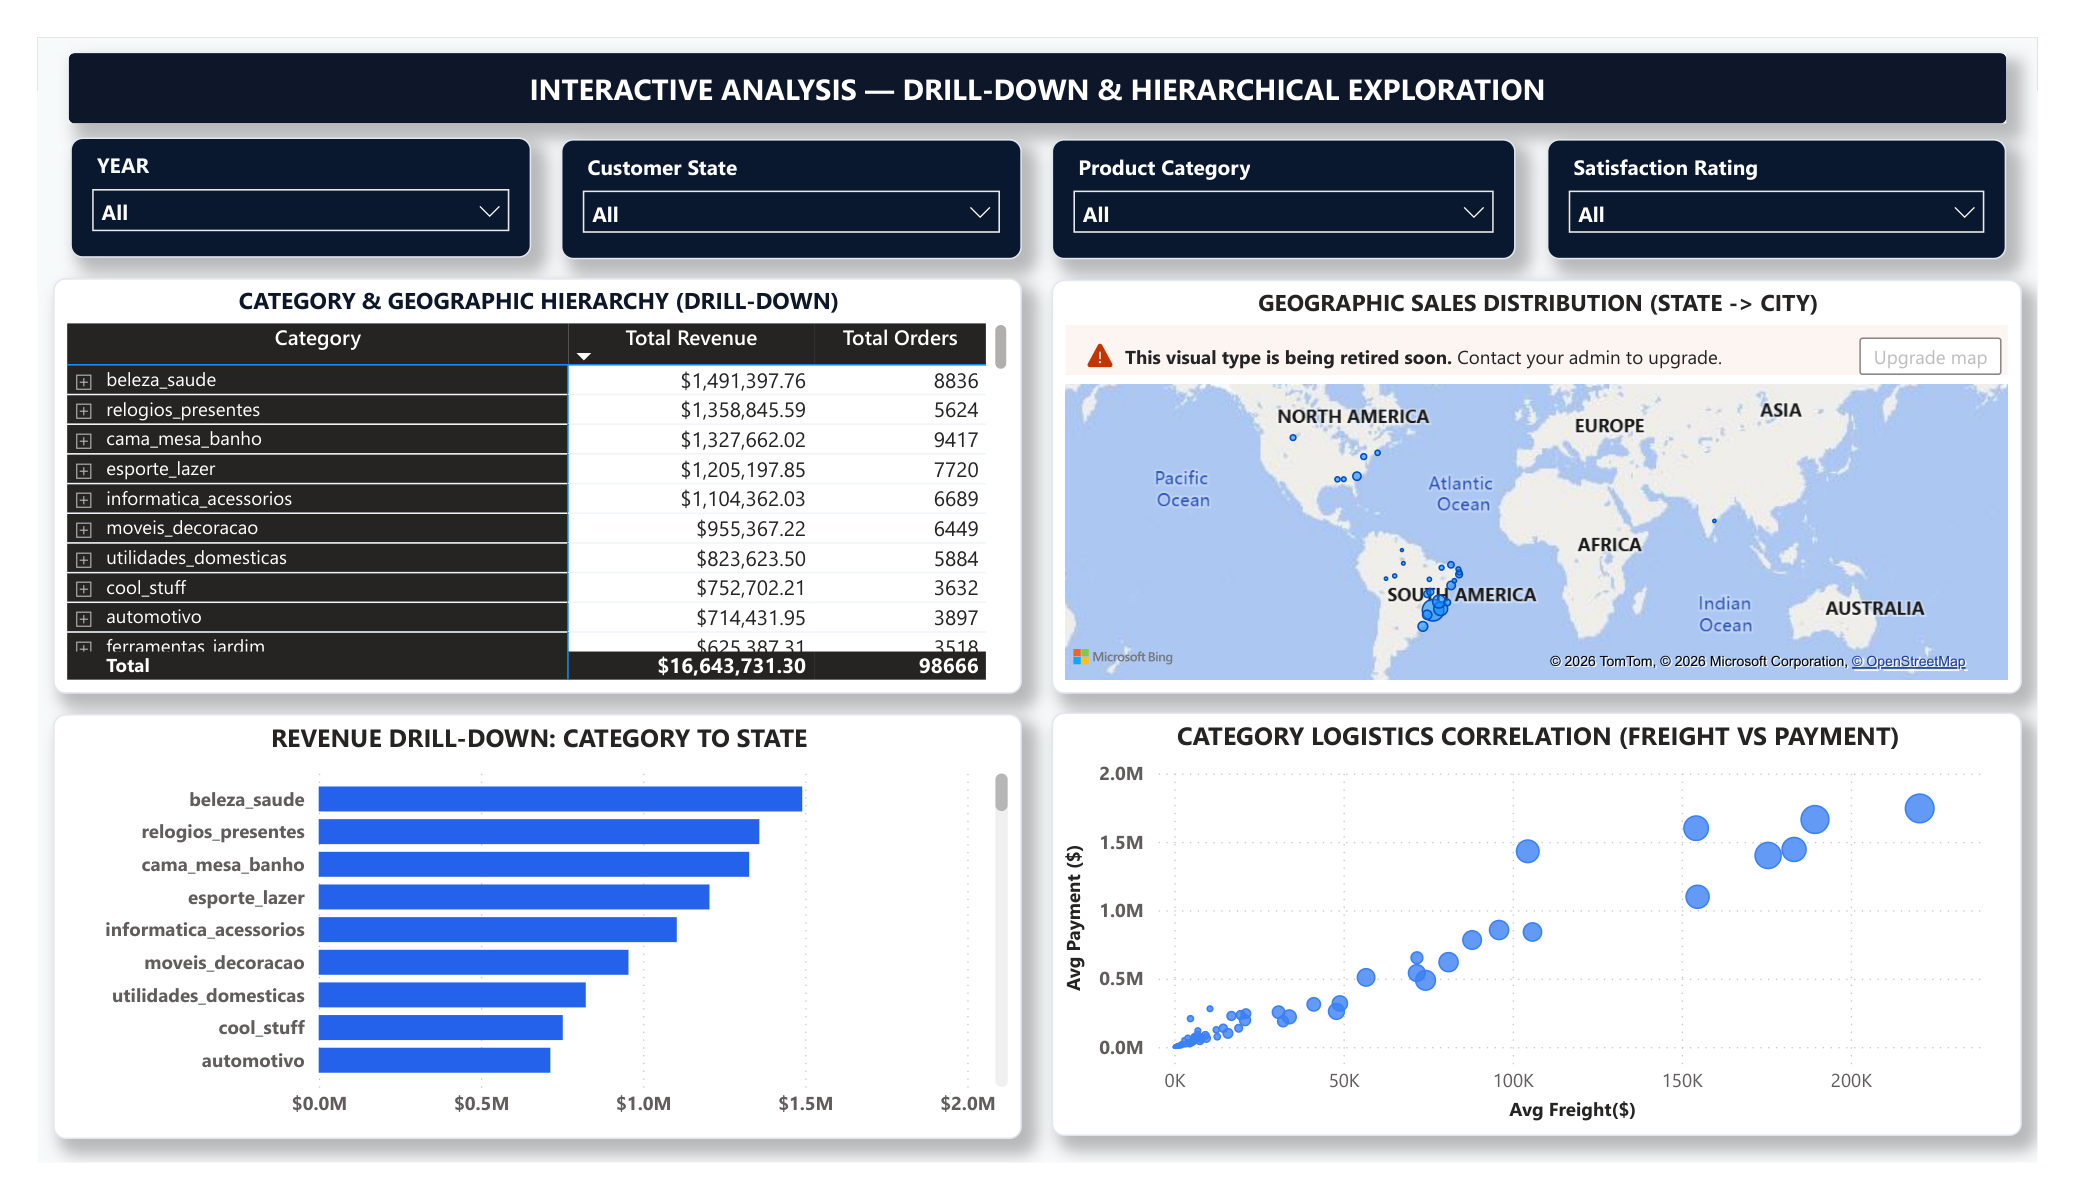

Layout of this report page (visuals, bound fields, positions):
{"tool":"powerbi","page":{"name":"Interactive Analysis","canvas":[1280,720],"ordinal":2},"visuals":[{"type":"shape","box":[20,10,1240,45],"z":0},{"type":"slicer","fields":{"Values":["dm_sales_performance.year_number"]},"box":[20.5,63.9,295.6,77.2],"z":1000},{"type":"slicer","fields":{"Values":["dm_sales_performance.customer_state"]},"box":[334.6,65.2,294.9,76.6],"z":2000},{"type":"slicer","fields":{"Values":["dm_sales_performance.product_category_name"]},"box":[649.4,65.2,296.3,76.6],"z":3000},{"type":"slicer","fields":{"Values":["dm_customer_insights.satisfaction_category"]},"box":[965.5,65.2,294.9,76.6],"z":4000},{"type":"pivotTable","title":"CATEGORY & GEOGRAPHIC HIERARCHY (DRILL-DOWN)","fields":{"Rows":["dm_sales_performance.product_category_name","dm_sales_performance.customer_state","dm_sales_performance.customer_city"],"Values":["Sum(dm_sales_performance.total_order_value)","Count(dm_sales_performance.order_id)"]},"box":[9.7,154.4,620.1,265.4],"z":5000},{"type":"map","title":"GEOGRAPHIC SALES DISTRIBUTION (STATE -> CITY)","fields":{"Category":["dm_sales_performance.customer_state"],"Size":["Sum(dm_sales_performance.total_order_value)"]},"box":[649.4,154.5,621,265.1],"z":6000},{"type":"clusteredBarChart","title":"REVENUE DRILL-DOWN: CATEGORY TO STATE","fields":{"Category":["dm_sales_performance.product_category_name","dm_sales_performance.customer_state"],"Y":["Sum(dm_sales_performance.total_order_value)"]},"box":[9.7,433.1,620.1,271.4],"z":7000},{"type":"scatterChart","title":"CATEGORY LOGISTICS CORRELATION (FREIGHT VS PAYMENT)","fields":{"Category":["dm_sales_performance.product_category_name"],"X":["Sum(dm_sales_performance.freight_value)"],"Y":["Sum(dm_sales_performance.payment_value)"],"Size":["Count(dm_sales_performance.order_id)"]},"box":[649.4,432.4,621,270.8],"z":8000}]}

Visuals, with their boxes on the page's 1280x720 design canvas (x1, y1, x2, y2). These are canvas units, not pixel positions in the 2075x1200 screenshot, which may show the page scaled, cropped or inside an application window:
shape: bbox=[20, 10, 1260, 55]
slicer - dm_sales_performance.year_number: bbox=[20, 64, 316, 141]
slicer - dm_sales_performance.customer_state: bbox=[335, 65, 630, 142]
slicer - dm_sales_performance.product_category_name: bbox=[649, 65, 946, 142]
slicer - dm_customer_insights.satisfaction_category: bbox=[966, 65, 1260, 142]
"CATEGORY & GEOGRAPHIC HIERARCHY (DRILL-DOWN)" pivotTable: bbox=[10, 154, 630, 420]
"GEOGRAPHIC SALES DISTRIBUTION (STATE -> CITY)" map: bbox=[649, 154, 1270, 420]
"REVENUE DRILL-DOWN: CATEGORY TO STATE" clusteredBarChart: bbox=[10, 433, 630, 704]
"CATEGORY LOGISTICS CORRELATION (FREIGHT VS PAYMENT)" scatterChart: bbox=[649, 432, 1270, 703]
